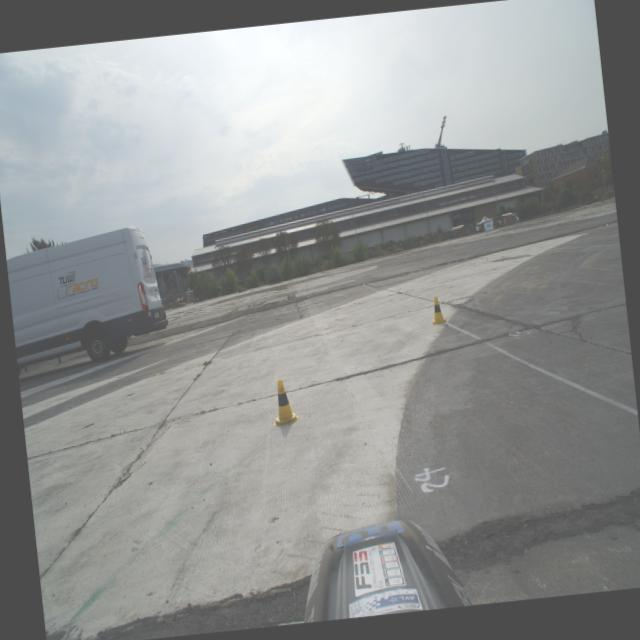yellow_cone: (268, 377, 300, 426), (428, 295, 448, 325)
